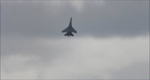maybay_muctieu: (62, 16, 77, 38)
